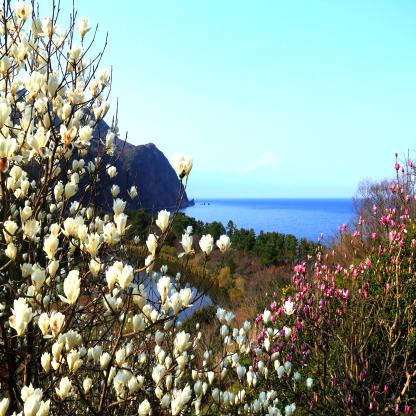Mokuren: (0, 0, 315, 416), (248, 147, 416, 416)
